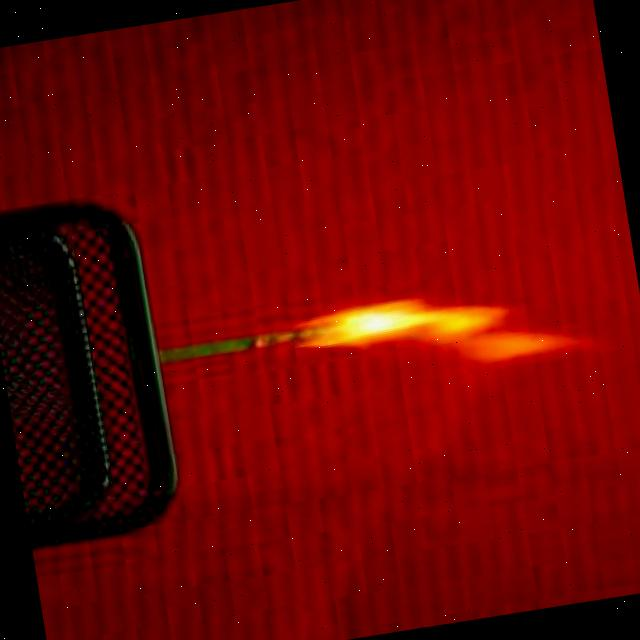fire: (275, 268, 581, 376)
